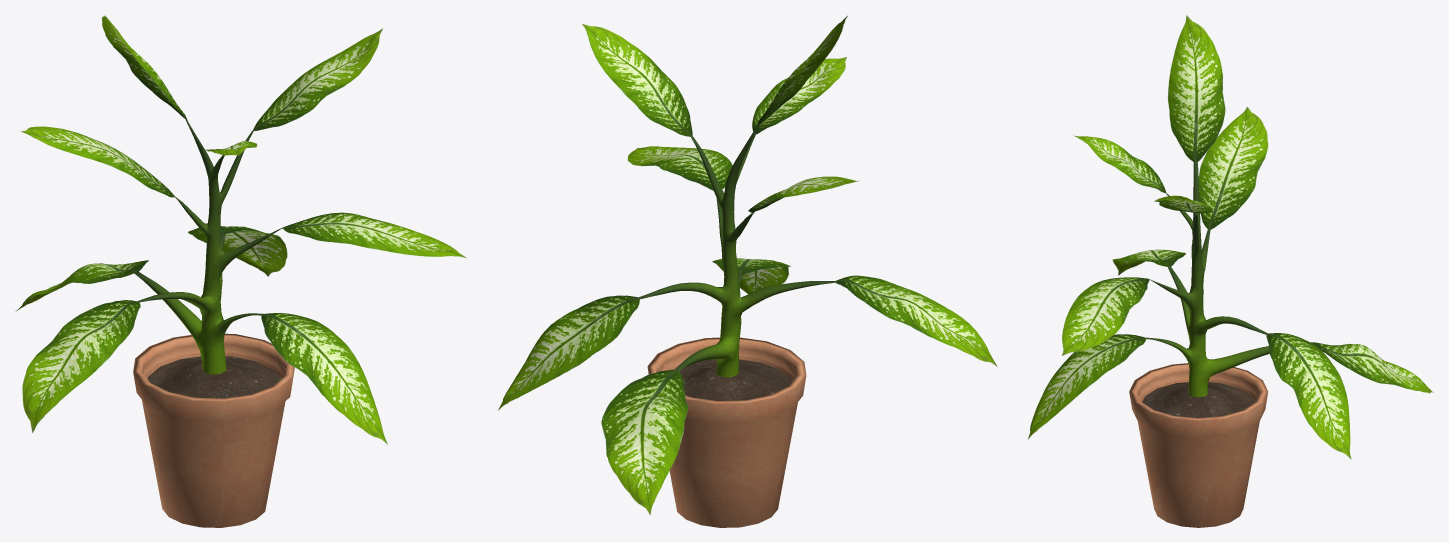
File: dumb_c.gltf
3 views of the same model, side by side, from view 1: azimuth 30°, elevation 25°; view 2: azimuth 150°, elevation 25°; view 3: azimuth 270°, elevation 25° (orthographic). The views are drawn at different scales.
Visible parts, largest first — view 1: g_plant, g_pot, g_dirt; view 2: g_plant, g_pot, g_dirt; view 3: g_plant, g_pot, g_dirt.
Part boxes in pixels (x1,y1,x2,y2): g_plant: [15, 15, 466, 444]; g_pot: [133, 333, 294, 527]; g_dirt: [148, 356, 280, 398]; g_plant: [498, 15, 997, 514]; g_pot: [647, 337, 806, 527]; g_dirt: [679, 359, 792, 400]; g_plant: [1028, 15, 1433, 459]; g_pot: [1129, 363, 1268, 527]; g_dirt: [1142, 382, 1254, 417].
Size of the model in its own units: 59.13 by 73.71 by 61.03.
Materials: 4 (4 with a texture image).
